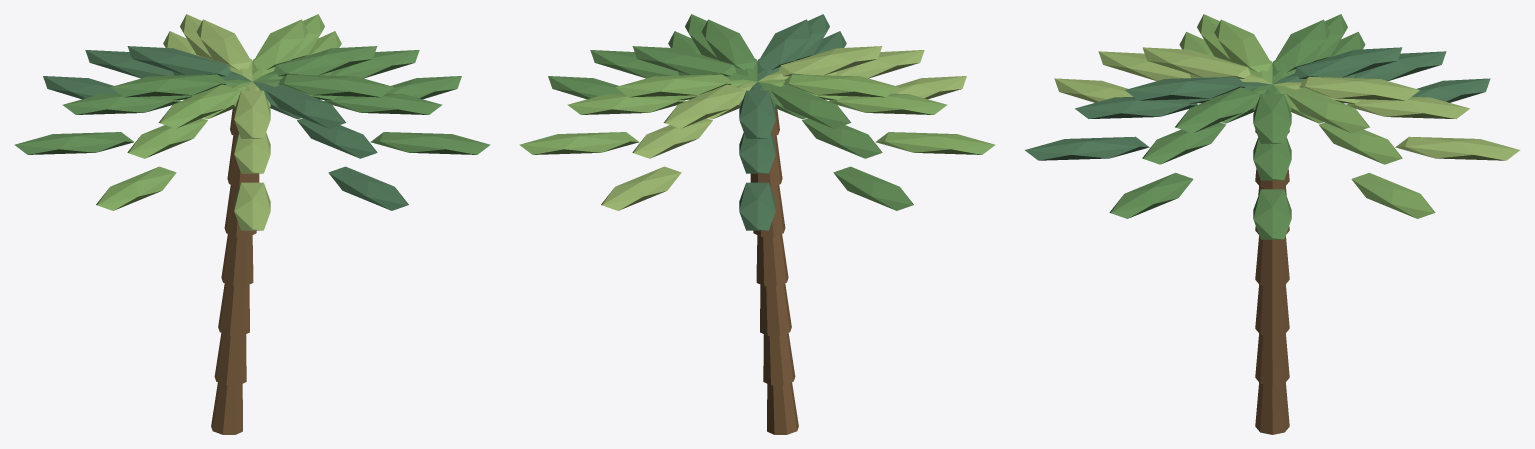
Rendered from palm.glb.
3 renders of one model, left to right at view 1: azimuth 30°, elevation 25°; view 2: azimuth 150°, elevation 25°; view 3: azimuth 270°, elevation 25°, orthographic. The views are drawn at different scales.
Visible parts, largest first — view 1: Palm frond.019, Palm frond.035, Palm frond.017, Palm frond.033, Palm frond.001, Palm frond.013, Palm frond.018, Palm frond.034, Palm frond.021, Palm frond.029, Palm frond.023, Palm frond.031 (+19 smaller); view 2: Palm frond.007, Palm frond.023, Palm frond.005, Palm frond.021, Palm frond.001, Palm frond.025, Palm frond.006, Palm frond.022, Palm frond.009, Palm frond.017, Palm frond.011, Palm frond.019 (+19 smaller); view 3: Palm frond.011, Palm frond.031, Palm frond.009, Palm frond.029, Palm frond.013, Palm frond.025, Palm frond.010, Palm frond.030, Palm frond.005, Palm frond.007, Palm frond.033, Palm frond.035 (+17 smaller).
Part boxes in pixels (bbox=[...]): Palm frond.019: bbox=[14, 132, 134, 154]; Palm frond.035: bbox=[370, 132, 490, 154]; Palm frond.017: bbox=[110, 74, 226, 97]; Palm frond.033: bbox=[278, 74, 394, 97]; Palm frond.001: bbox=[273, 46, 377, 76]; Palm frond.013: bbox=[127, 46, 231, 76]; Palm frond.018: bbox=[62, 93, 180, 114]; Palm frond.034: bbox=[324, 93, 442, 114]; Palm frond.021: bbox=[158, 84, 239, 128]; Palm frond.029: bbox=[265, 84, 346, 128]; Palm frond.023: bbox=[96, 166, 176, 210]; Palm frond.031: bbox=[328, 166, 408, 210]; Palm frond.007: bbox=[519, 132, 639, 154]; Palm frond.023: bbox=[875, 132, 995, 154]; Palm frond.005: bbox=[615, 74, 731, 97]; Palm frond.021: bbox=[783, 74, 899, 97]; Palm frond.001: bbox=[632, 46, 736, 76]; Palm frond.025: bbox=[778, 46, 882, 76]; Palm frond.006: bbox=[567, 93, 685, 114]; Palm frond.022: bbox=[829, 93, 947, 114]; Palm frond.009: bbox=[663, 84, 744, 128]; Palm frond.017: bbox=[770, 84, 851, 128]; Palm frond.011: bbox=[601, 166, 681, 210]; Palm frond.019: bbox=[833, 166, 913, 210]; Palm frond.011: bbox=[1395, 136, 1520, 160]; Palm frond.031: bbox=[1024, 136, 1149, 160]; Palm frond.009: bbox=[1299, 76, 1419, 100]; Palm frond.029: bbox=[1125, 76, 1245, 100]; Palm frond.013: bbox=[1294, 47, 1402, 78]; Palm frond.025: bbox=[1142, 47, 1250, 78]; Palm frond.010: bbox=[1347, 97, 1469, 118]; Palm frond.030: bbox=[1075, 97, 1197, 118]; Palm frond.005: bbox=[1286, 87, 1369, 133]; Palm frond.007: bbox=[1351, 172, 1435, 218]; Palm frond.033: bbox=[1175, 87, 1258, 133]; Palm frond.035: bbox=[1109, 172, 1193, 218].
Size of the model in its own units: 4.8 by 3.97 by 4.88.
